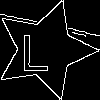L: (20, 25, 50, 71)
